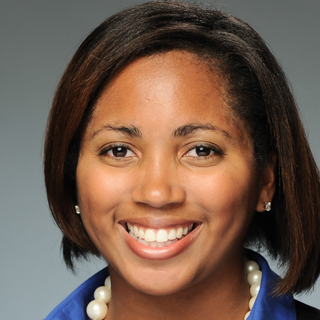eye: (178, 139, 226, 164), (97, 139, 143, 165)
